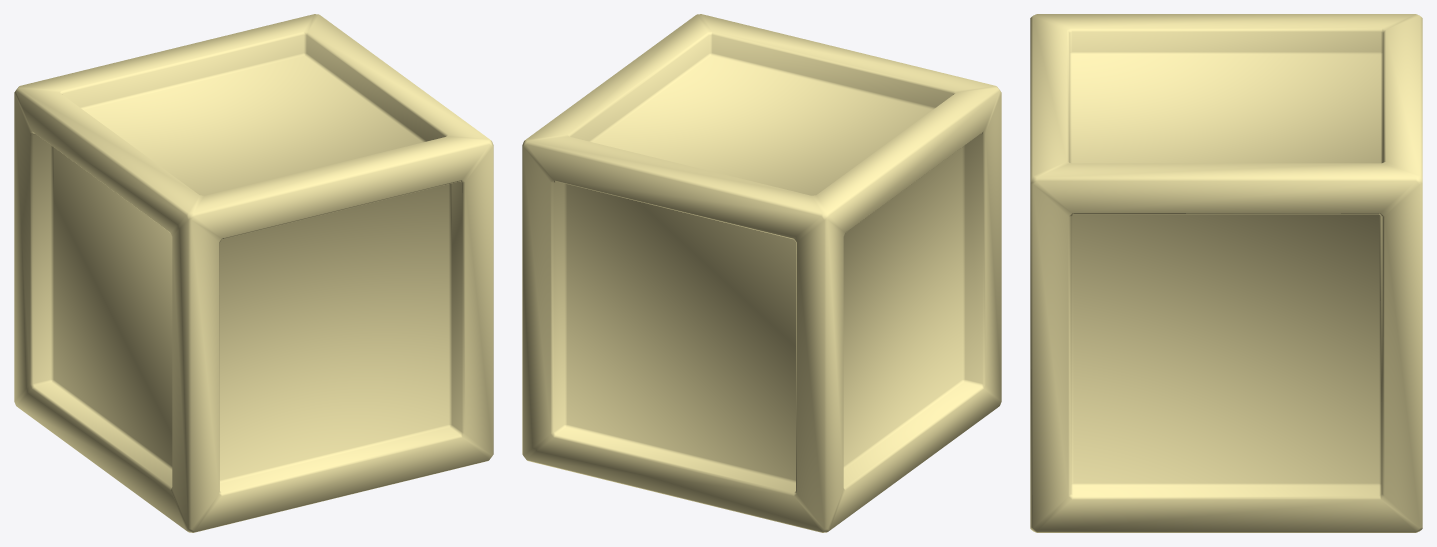
File: Crate.fbx
3 views of the same model, side by side, from view 1: azimuth 30°, elevation 25°; view 2: azimuth 150°, elevation 25°; view 3: azimuth 270°, elevation 25° (orthographic). The views are drawn at different scales.
Visible parts, largest first — view 1: Crate; view 2: Crate; view 3: Crate.
Part boxes in pixels (bbox=[...]): Crate: bbox=[14, 14, 493, 532]; Crate: bbox=[522, 14, 1001, 532]; Crate: bbox=[1030, 14, 1422, 532].
Bounding box in the file's own units: 100 × 100 × 100.
